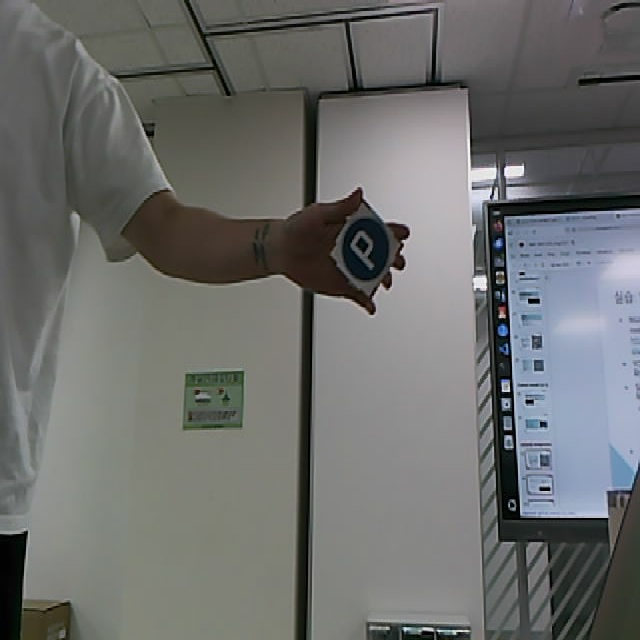parking: (329, 201, 404, 300)
